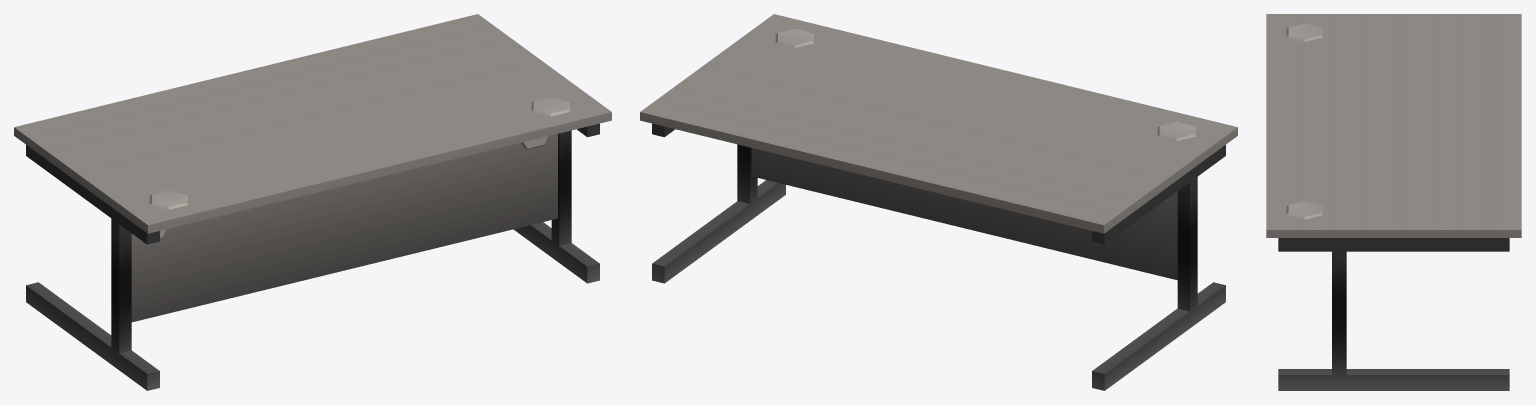
The model's file is Table_OfficeDesk_Grey.fbx.
3 views of the same model, side by side, from view 1: azimuth 30°, elevation 25°; view 2: azimuth 150°, elevation 25°; view 3: azimuth 270°, elevation 25° (orthographic). The views are drawn at different scales.
Visible parts, largest first — view 1: Table_OfficeDesk_Grey; view 2: Table_OfficeDesk_Grey; view 3: Table_OfficeDesk_Grey.
Boxes of the visible parts, <box> form: Table_OfficeDesk_Grey: <box>14,14,611,390</box>; Table_OfficeDesk_Grey: <box>640,14,1237,390</box>; Table_OfficeDesk_Grey: <box>1266,14,1521,390</box>.
Size of the model in its own units: 207 by 74.14 by 104.
